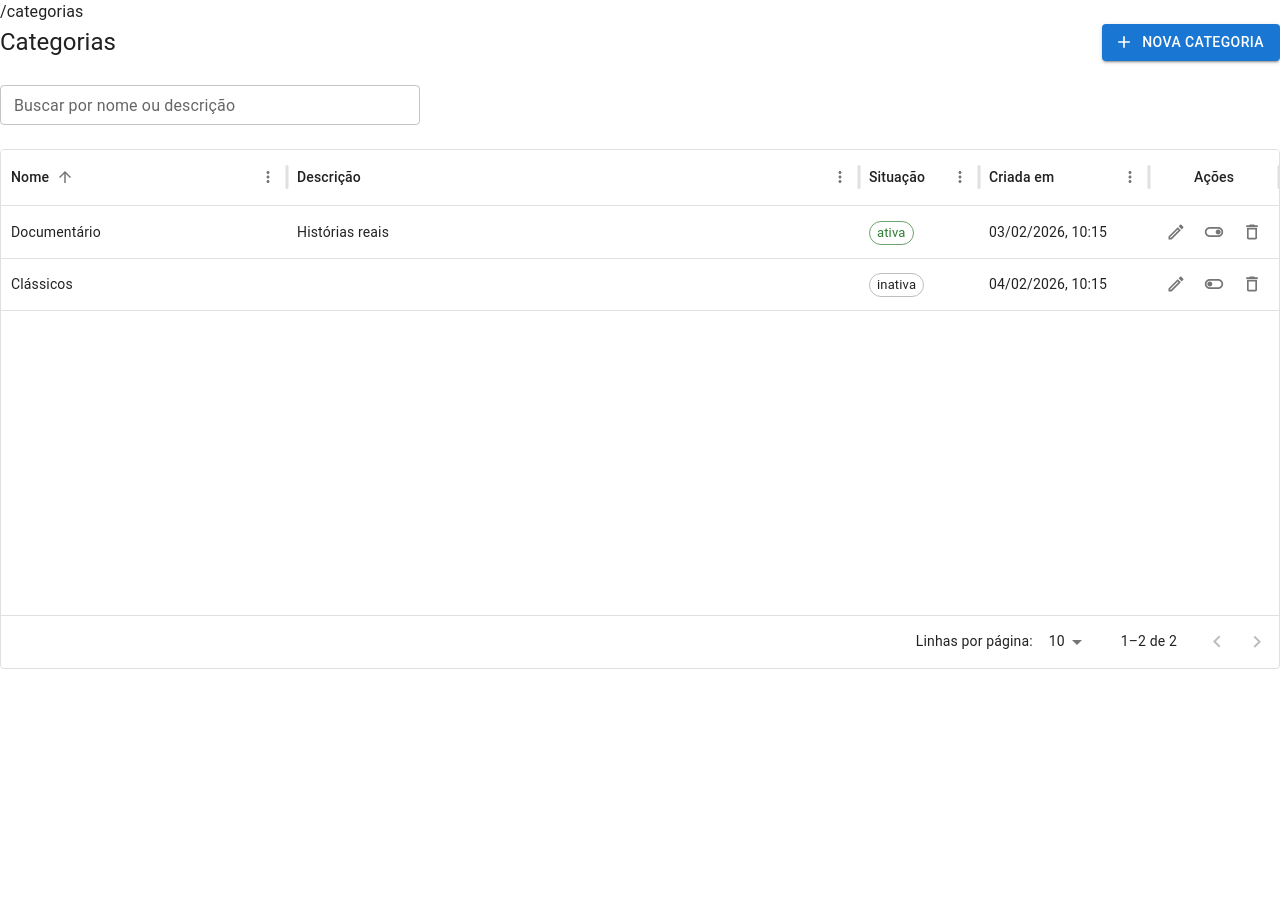
Test case: CategoryList › as ações da linha › givenAPerguntaAberta_whenConfirma_thenChamaODelete
Expected: the text "Documentário" is shown, [11,224,101,240]
Click the menu item named "Remover" in the row of "Documentário": (1252, 232) [1237,217,1267,247]
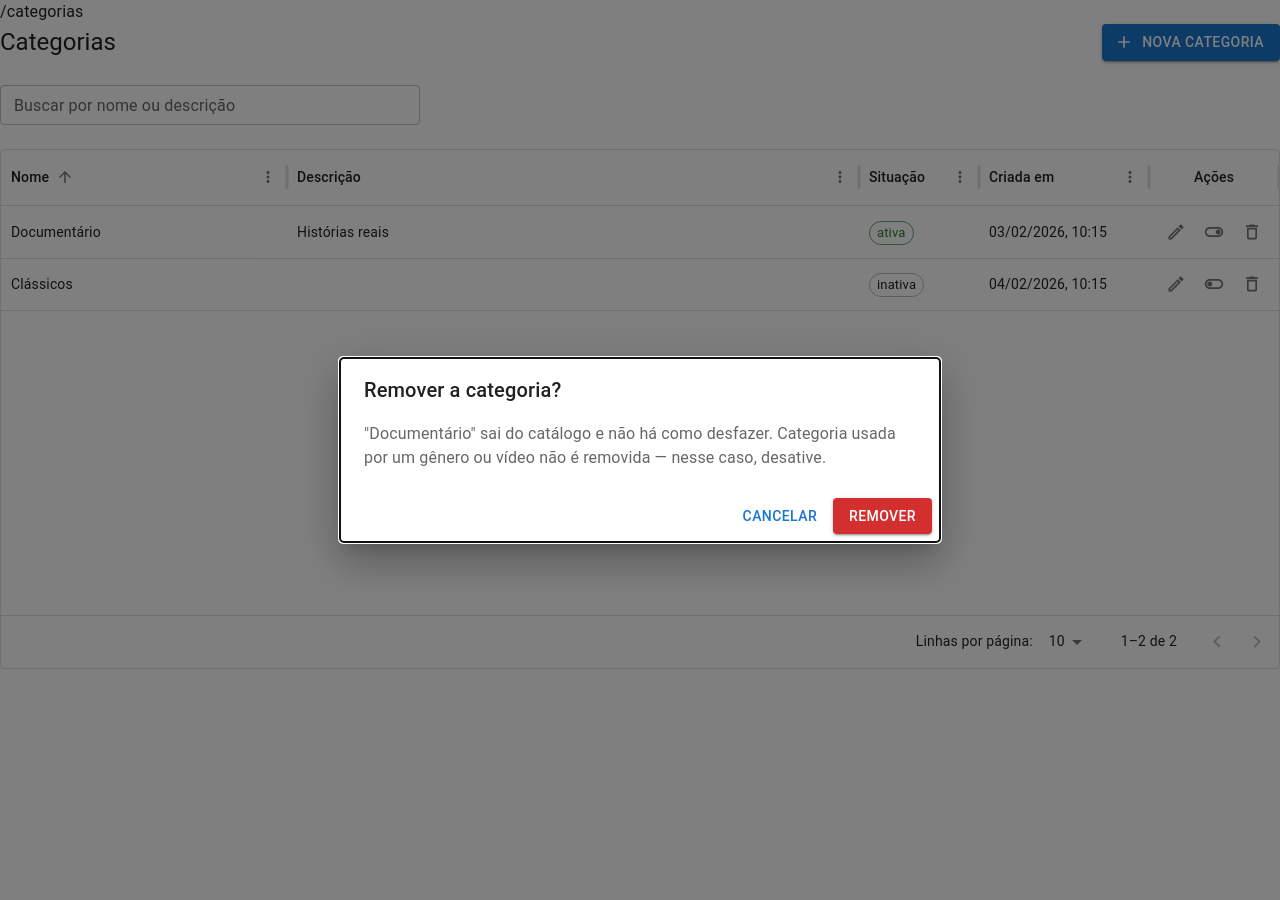
Click the button "Remover": (882, 516) [833,498,932,534]
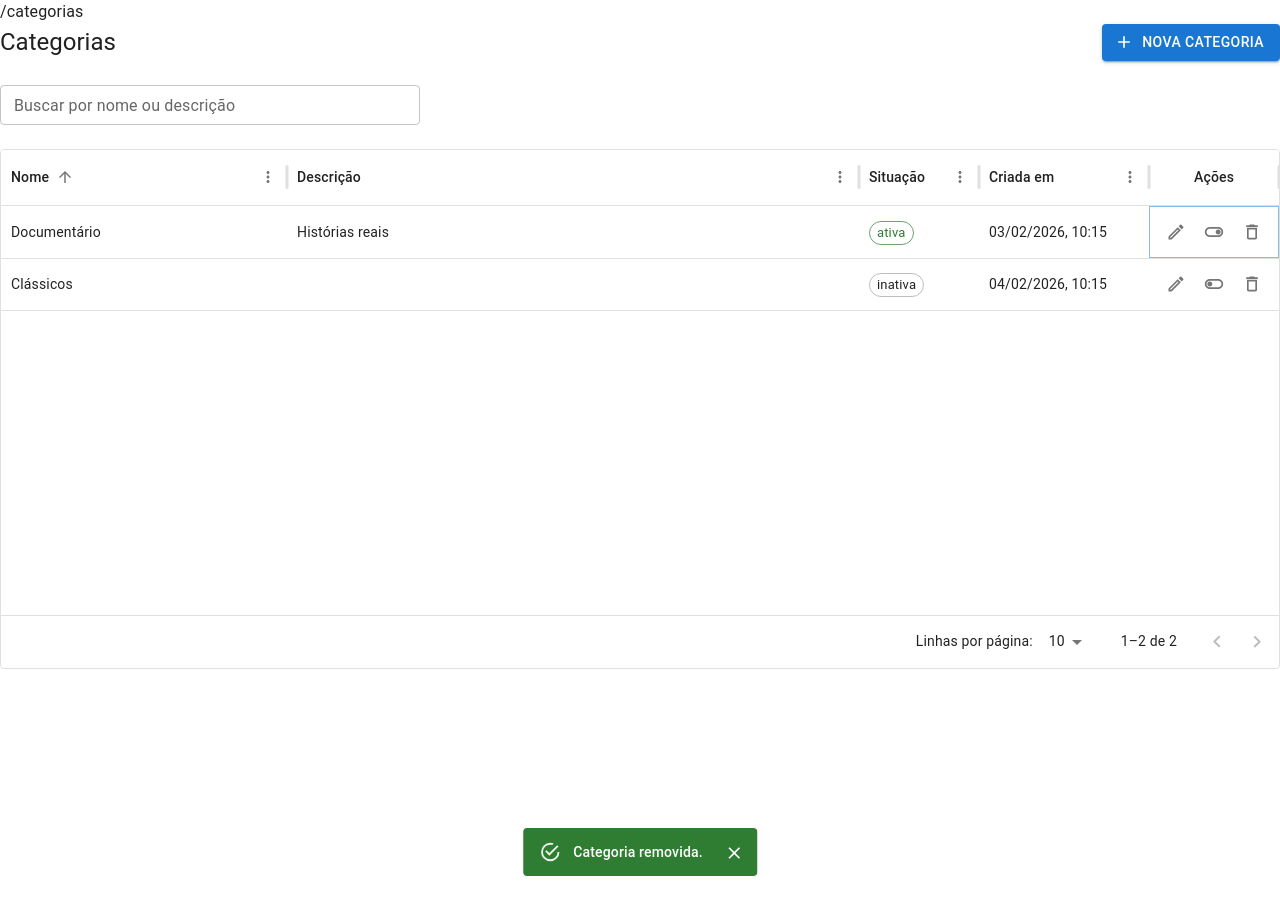
Now the text "Categoria removida." is shown, box [573,844,703,860]
